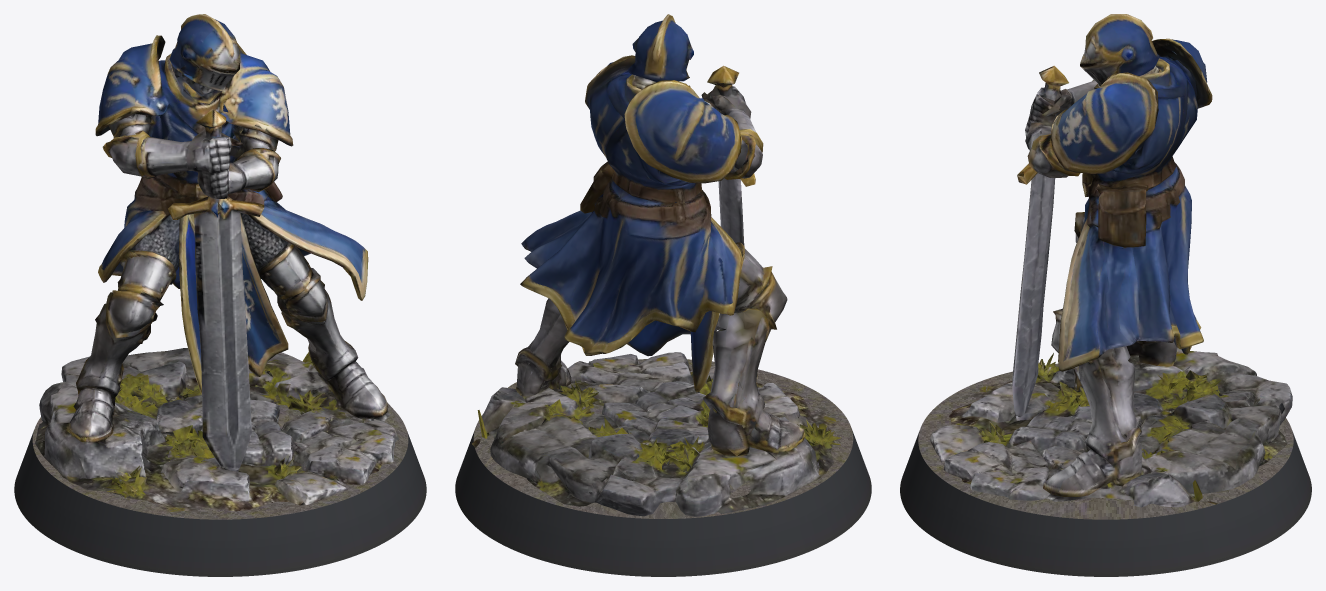
Rendered from knight.glb.
3 renders of one model, left to right at view 1: azimuth 30°, elevation 25°; view 2: azimuth 150°, elevation 25°; view 3: azimuth 270°, elevation 25°, orthographic.
Size of the model in its own units: 0.7909 by 1 by 0.7909.
3 materials, 3 textured.
